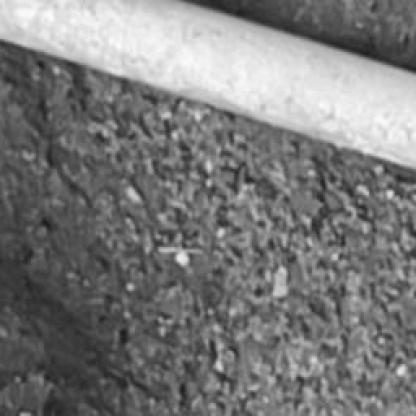PVC: (1, 1, 414, 171)
